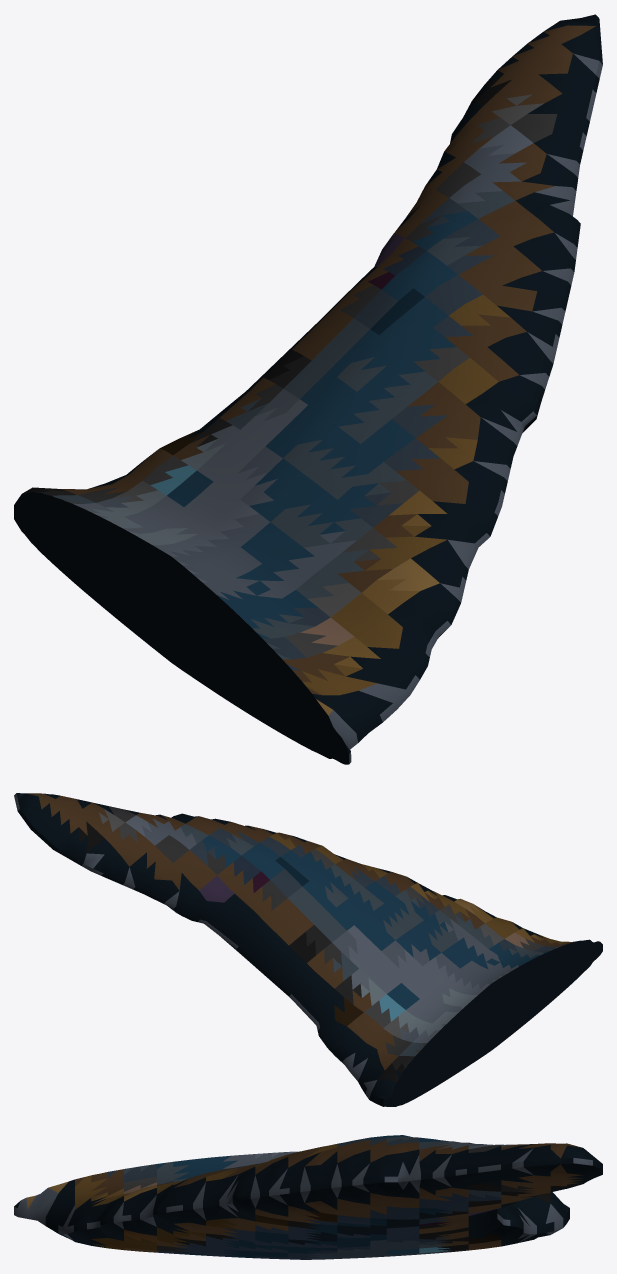
The model's file is coral_manta_wing_239.glb.
3 views of the same model, one above another, from view 1: azimuth 30°, elevation 25°; view 2: azimuth 150°, elevation 25°; view 3: azimuth 270°, elevation 25° (orthographic). The views are drawn at different scales.
Visible parts, largest first — view 1: coral_manta_wing_239_body; view 2: coral_manta_wing_239_body; view 3: coral_manta_wing_239_body.
Boxes of the visible parts, x1,y1,x2,y2 form: coral_manta_wing_239_body: [14, 14, 602, 764]; coral_manta_wing_239_body: [14, 793, 602, 1106]; coral_manta_wing_239_body: [14, 1135, 602, 1259].
Size of the model in its own units: 21.15 by 13.19 by 22.26.
